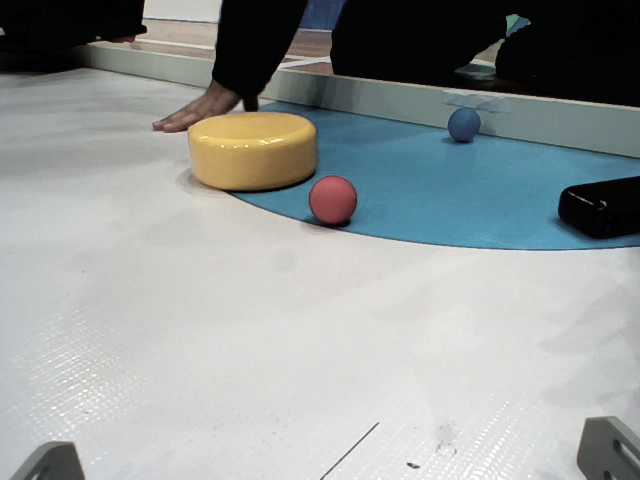black: (555, 172, 640, 240)
blue: (446, 106, 481, 144)
red: (309, 175, 355, 227)
yellow: (184, 113, 319, 190)
